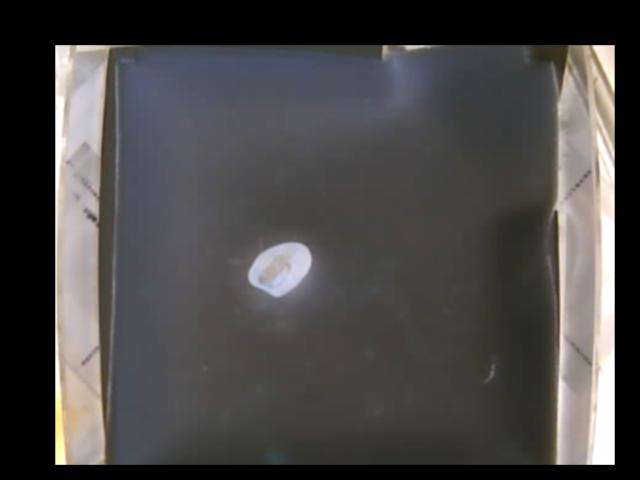Pebble: (247, 241, 313, 296)
